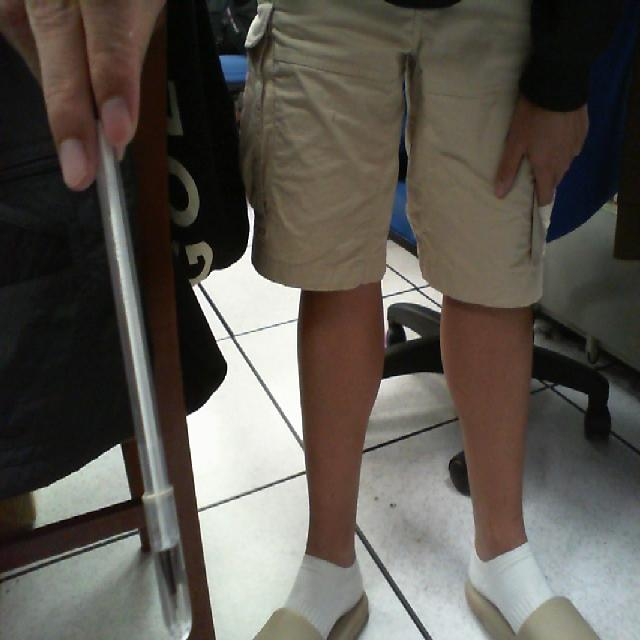Pen: (73, 48, 222, 637)
